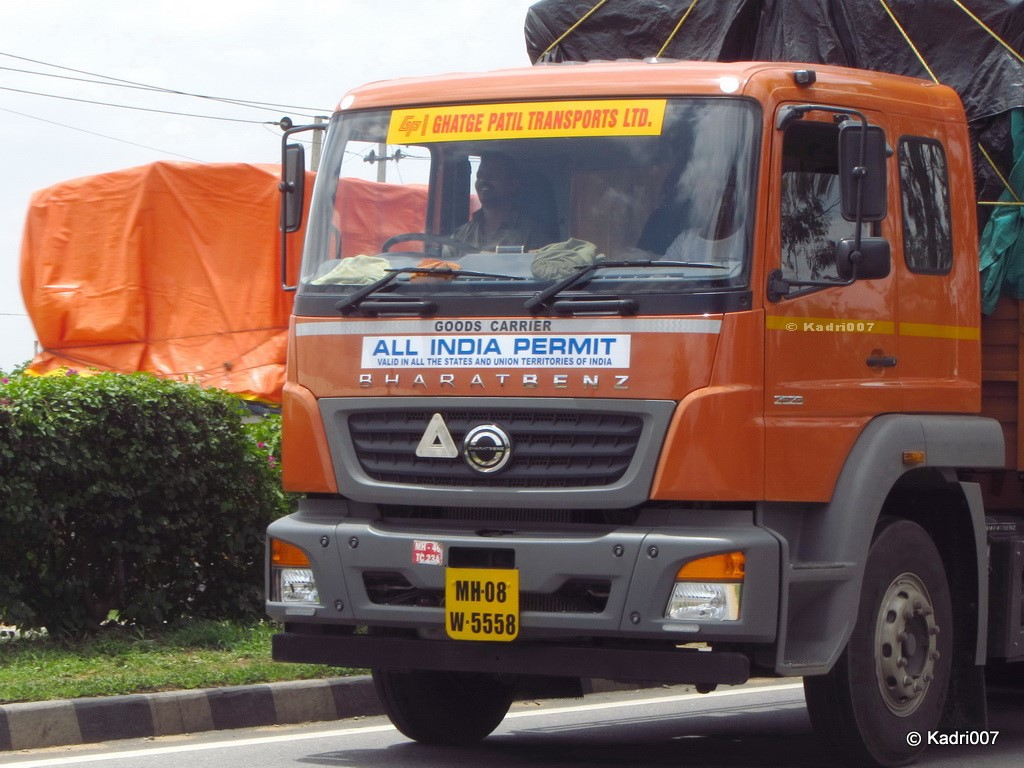doublelinenumberplate: (444, 562, 522, 640)
